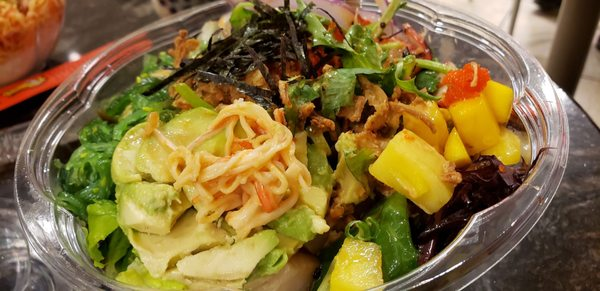sushi: (5, 0, 590, 287)
